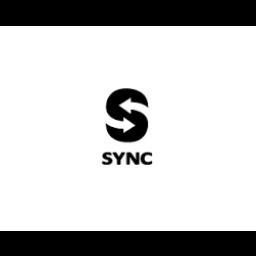s: (100, 148, 114, 168)
